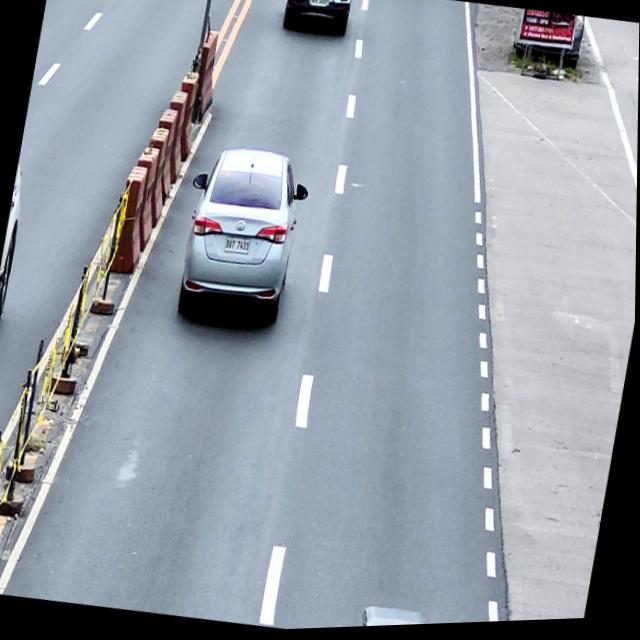Car: (172, 141, 316, 332), (281, 0, 355, 41)
License-Plate: (224, 238, 252, 258), (309, 0, 327, 11)
